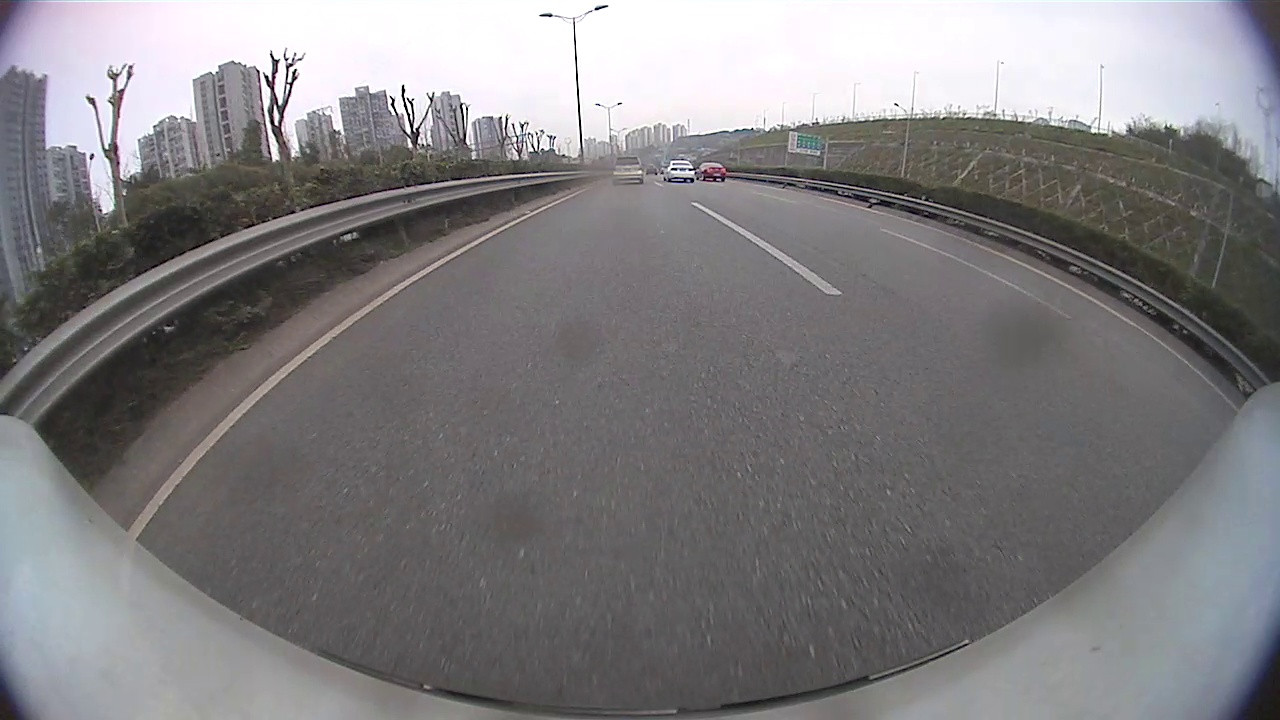car: (610, 155, 645, 185), (661, 159, 696, 183), (696, 161, 728, 183)
